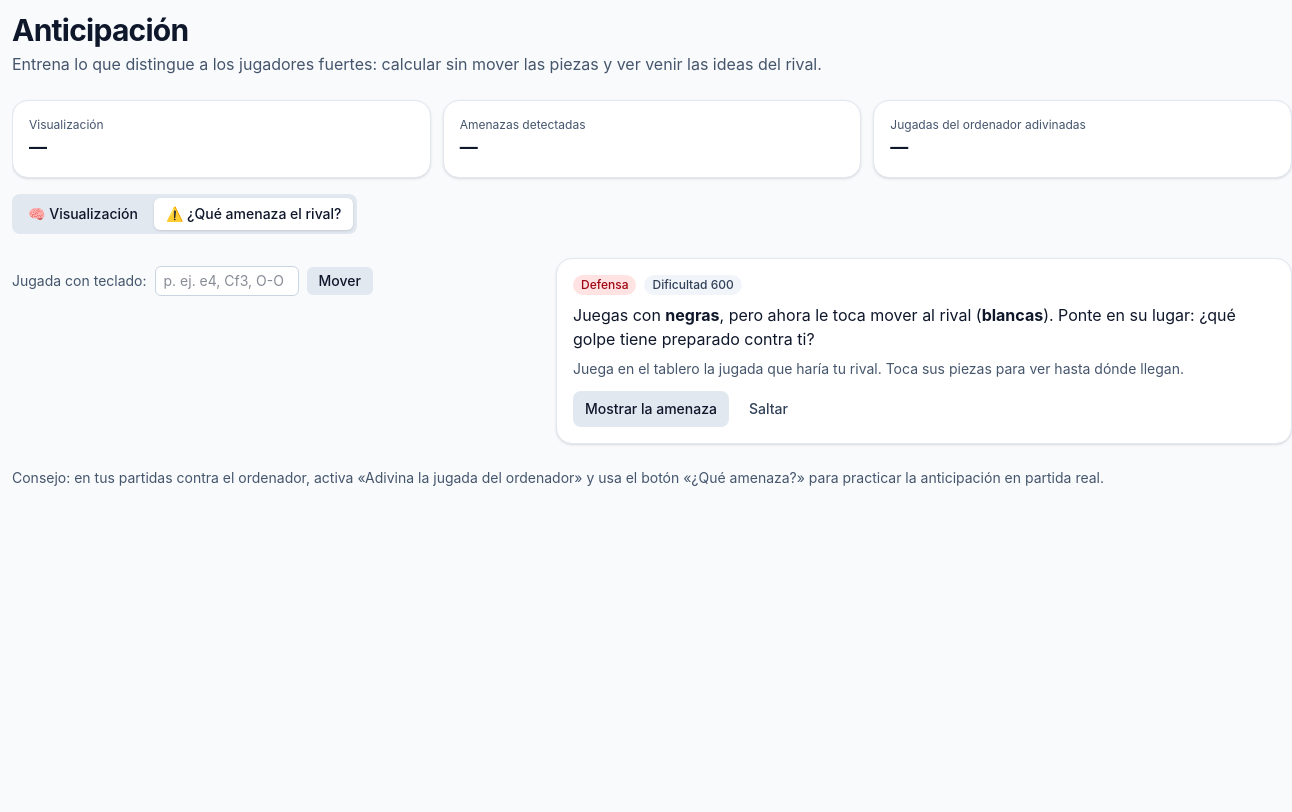
it: AnticipationPage › amenazas: el alumno juega la jugada del rival
The width and height of the screenshot is (1292, 812).
Expected: the text "le toca mover al rival" is shown, [720,305,982,325]
Type "Ta7" into the field labelled "Jugada con teclado:" at (226, 281), box [154,266,298,296]
Then press Enter
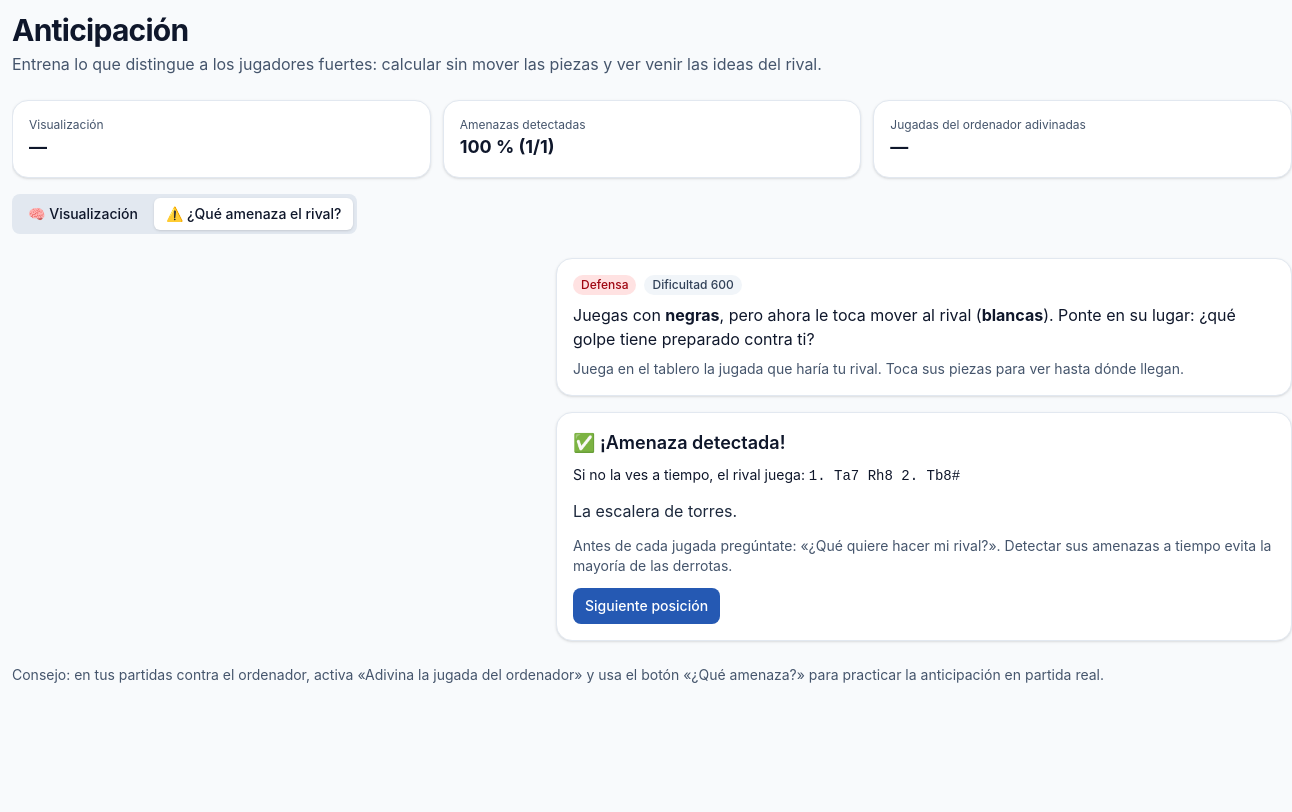
Result: the text "✅ ¡Amenaza detectada!" is shown at [573,432,785,453]
